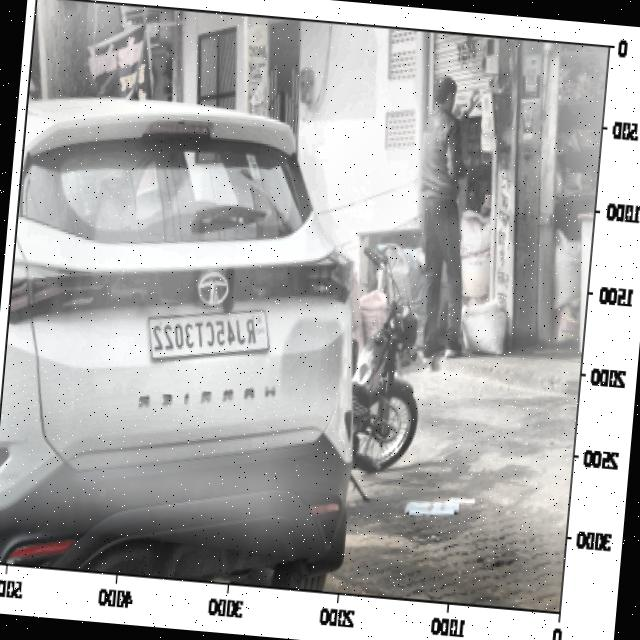license_plate: (145, 304, 264, 374)
